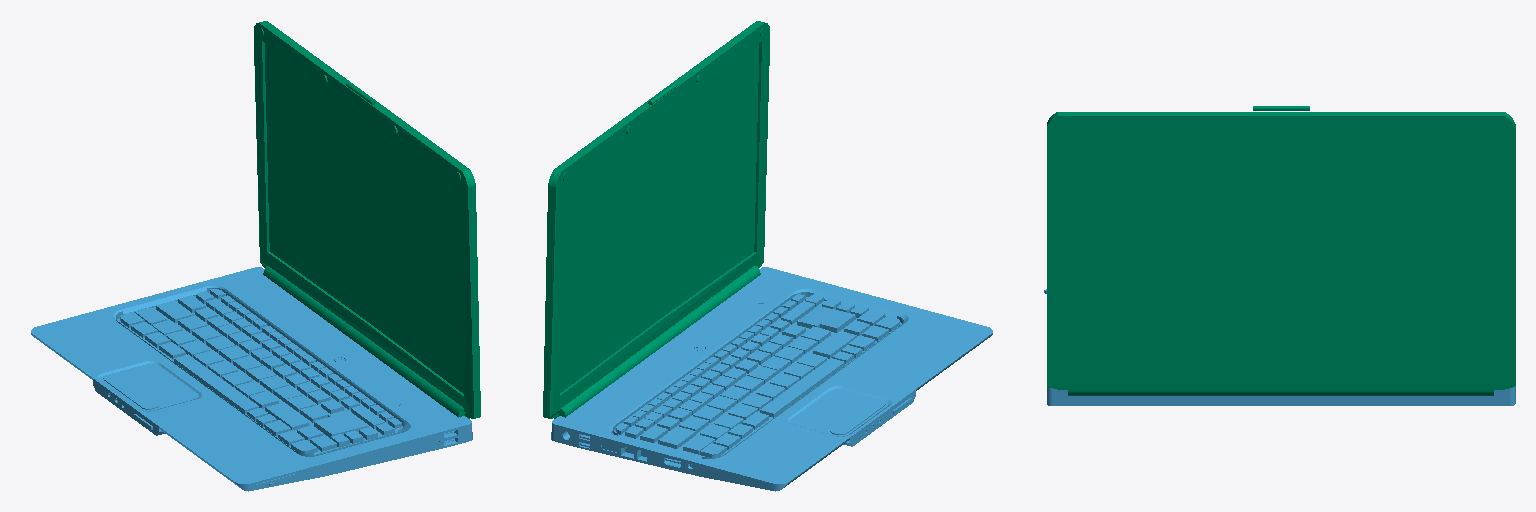
The robot description file, URDF, robot "partnet_9728d5d4ba7fc664aa4473b82fdc5099":
<?xml version="1.0" ?>
<robot name="partnet_9728d5d4ba7fc664aa4473b82fdc5099">
	<link name="base"/>
	<link name="link_0">
		<visual name="keyboard-5">
			<origin xyz="0 0 0"/>
			<geometry>
				<mesh filename="textured_objs/new-0.obj"/>
			</geometry>
		</visual>
		<visual name="keyboard-5">
			<origin xyz="0 0 0"/>
			<geometry>
				<mesh filename="textured_objs/original-40.obj"/>
			</geometry>
		</visual>
		<visual name="touchpad_surface-8">
			<origin xyz="0 0 0"/>
			<geometry>
				<mesh filename="textured_objs/new-4.obj"/>
			</geometry>
		</visual>
		<visual name="button-9">
			<origin xyz="0 0 0"/>
			<geometry>
				<mesh filename="textured_objs/new-3.obj"/>
			</geometry>
		</visual>
		<visual name="base_frame-7">
			<origin xyz="0 0 0"/>
			<geometry>
				<mesh filename="textured_objs/new-2.obj"/>
			</geometry>
		</visual>
		<collision>
			<origin xyz="0 0 0"/>
			<geometry>
				<mesh filename="textured_objs/new-0.obj"/>
			</geometry>
		</collision>
		<collision>
			<origin xyz="0 0 0"/>
			<geometry>
				<mesh filename="textured_objs/original-40.obj"/>
			</geometry>
		</collision>
		<collision>
			<origin xyz="0 0 0"/>
			<geometry>
				<mesh filename="textured_objs/new-4.obj"/>
			</geometry>
		</collision>
		<collision>
			<origin xyz="0 0 0"/>
			<geometry>
				<mesh filename="textured_objs/new-3.obj"/>
			</geometry>
		</collision>
		<collision>
			<origin xyz="0 0 0"/>
			<geometry>
				<mesh filename="textured_objs/new-2.obj"/>
			</geometry>
		</collision>
	</link>
	<joint name="joint_0" type="fixed">
		<origin rpy="1.570796326794897 0 -1.570796326794897" xyz="0 0 0"/>
		<child link="link_0"/>
		<parent link="base"/>
	</joint>
	<link name="link_1">
		<visual name="shaft-4">
			<origin xyz="0 0.193992 0.2406565"/>
			<geometry>
				<mesh filename="textured_objs/original-36.obj"/>
			</geometry>
		</visual>
		<visual name="screen-17">
			<origin xyz="0 0.193992 0.2406565"/>
			<geometry>
				<mesh filename="textured_objs/new-5.obj"/>
			</geometry>
		</visual>
		<visual name="screen_frame-18">
			<origin xyz="0 0.193992 0.2406565"/>
			<geometry>
				<mesh filename="textured_objs/new-6.obj"/>
			</geometry>
		</visual>
		<visual name="screen_frame-18">
			<origin xyz="0 0.193992 0.2406565"/>
			<geometry>
				<mesh filename="textured_objs/original-42.obj"/>
			</geometry>
		</visual>
		<collision>
			<origin xyz="0 0.193992 0.2406565"/>
			<geometry>
				<mesh filename="textured_objs/original-36.obj"/>
			</geometry>
		</collision>
		<collision>
			<origin xyz="0 0.193992 0.2406565"/>
			<geometry>
				<mesh filename="textured_objs/new-5.obj"/>
			</geometry>
		</collision>
		<collision>
			<origin xyz="0 0.193992 0.2406565"/>
			<geometry>
				<mesh filename="textured_objs/new-6.obj"/>
			</geometry>
		</collision>
		<collision>
			<origin xyz="0 0.193992 0.2406565"/>
			<geometry>
				<mesh filename="textured_objs/original-42.obj"/>
			</geometry>
		</collision>
	</link>
	<joint name="joint_1" type="revolute">
		<origin xyz="0 -0.193992 -0.2406565"/>
		<axis xyz="-1 0 0"/>
		<child link="link_1"/>
		<parent link="link_0"/>
		<limit lower="-1.5707963267948966" upper="1.4660765716752369"/>
	</joint>
</robot>

--- Facts derived from the render (not from the file) ---
3 views of the same robot in one strip: view 1: azimuth 30°, elevation 25°; view 2: azimuth 150°, elevation 25°; view 3: azimuth 270°, elevation 25° (orthographic).
Robot: partnet_9728d5d4ba7fc664aa4473b82fdc5099 — 3 links, 2 joints (1 revolute, 1 fixed); root link base; default pose: all joints at 0.
Visible links, largest first — view 1: link_1, link_0; view 2: link_1, link_0; view 3: link_1, link_0.
Link boxes in pixels (box(x1,y1,x2,y2)): link_1: box(254, 21, 480, 418); link_0: box(31, 267, 472, 491); link_1: box(543, 21, 769, 418); link_0: box(551, 267, 992, 491); link_1: box(1047, 106, 1515, 395); link_0: box(1044, 289, 1515, 405).
Bounding box of the posed robot: 0.9579 × 1.47 × 1.03 m (x, y, z).
Meshes: 9 distinct files referenced, 9 mesh visuals loaded (9 OBJ).
